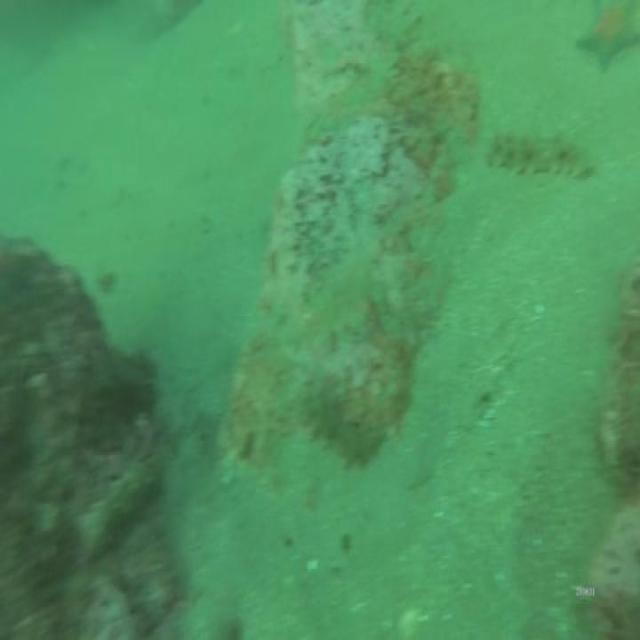holothurian: (77, 462, 159, 562), (300, 392, 390, 476), (485, 129, 592, 185)
starfish: (575, 0, 640, 71)
